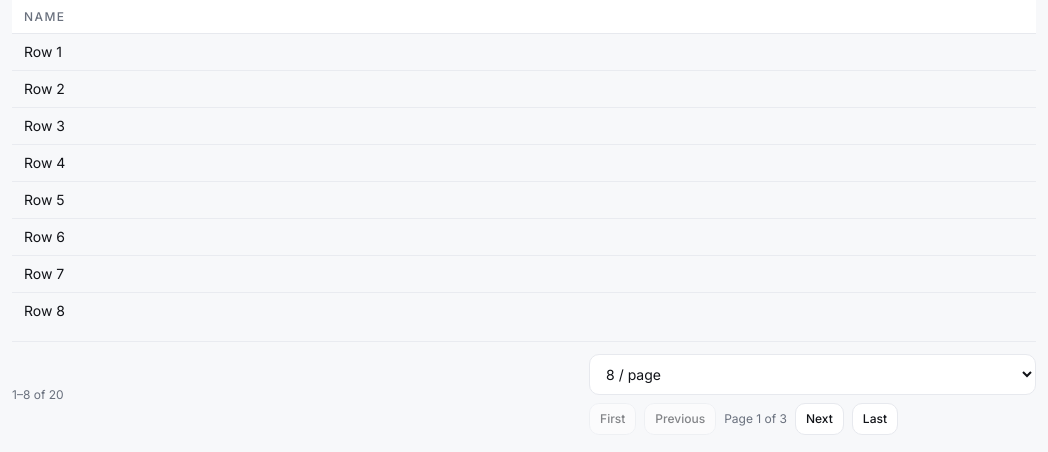
Test case: data displays › pages long tables instead of rendering every row
Expected: the text "Row 1" is shown, [12,34,1036,71]
Expected: the text "Row 8" is shown, [12,293,1036,329]
Click the button "Next": (819, 419) [795,403,844,435]
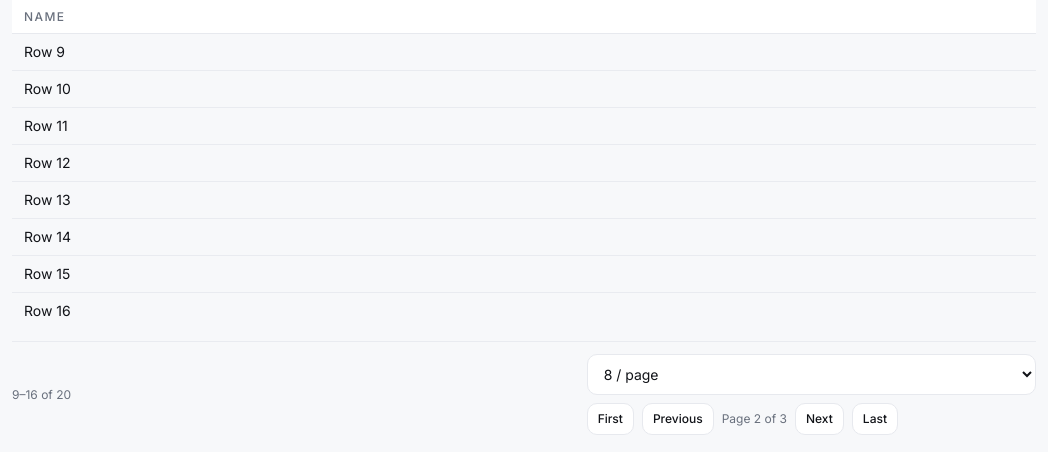
Expected: the text "Row 9" is shown, [12,34,1036,71]
Expected: the text "9–16 of 20" is shown, [12,387,71,403]
